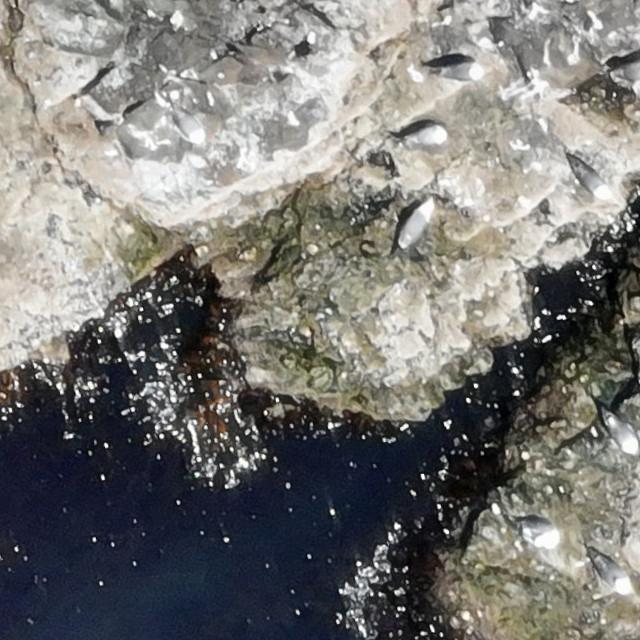umineko: (398, 200, 435, 254), (592, 550, 634, 596), (570, 164, 612, 202), (521, 518, 562, 550), (606, 416, 638, 452), (176, 113, 206, 149), (406, 126, 442, 146), (440, 61, 479, 78)
